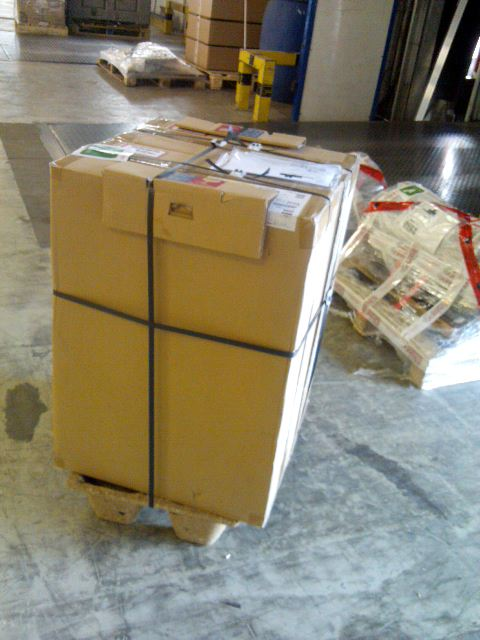label: (212, 146, 335, 187), (261, 185, 311, 235)
package: (45, 116, 360, 526)
